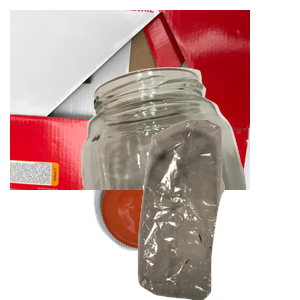cardboard: (10, 10, 250, 190)
glass: (74, 65, 300, 245)
plastic: (91, 152, 281, 300)
trash: (114, 120, 300, 300)
